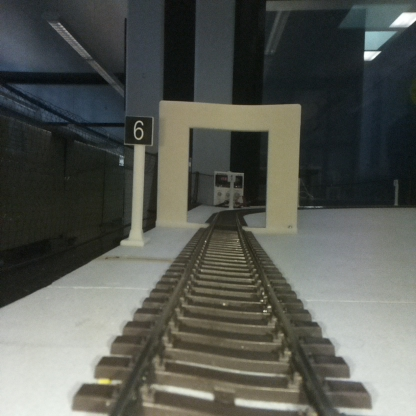black-info-6: (124, 117, 152, 243)
